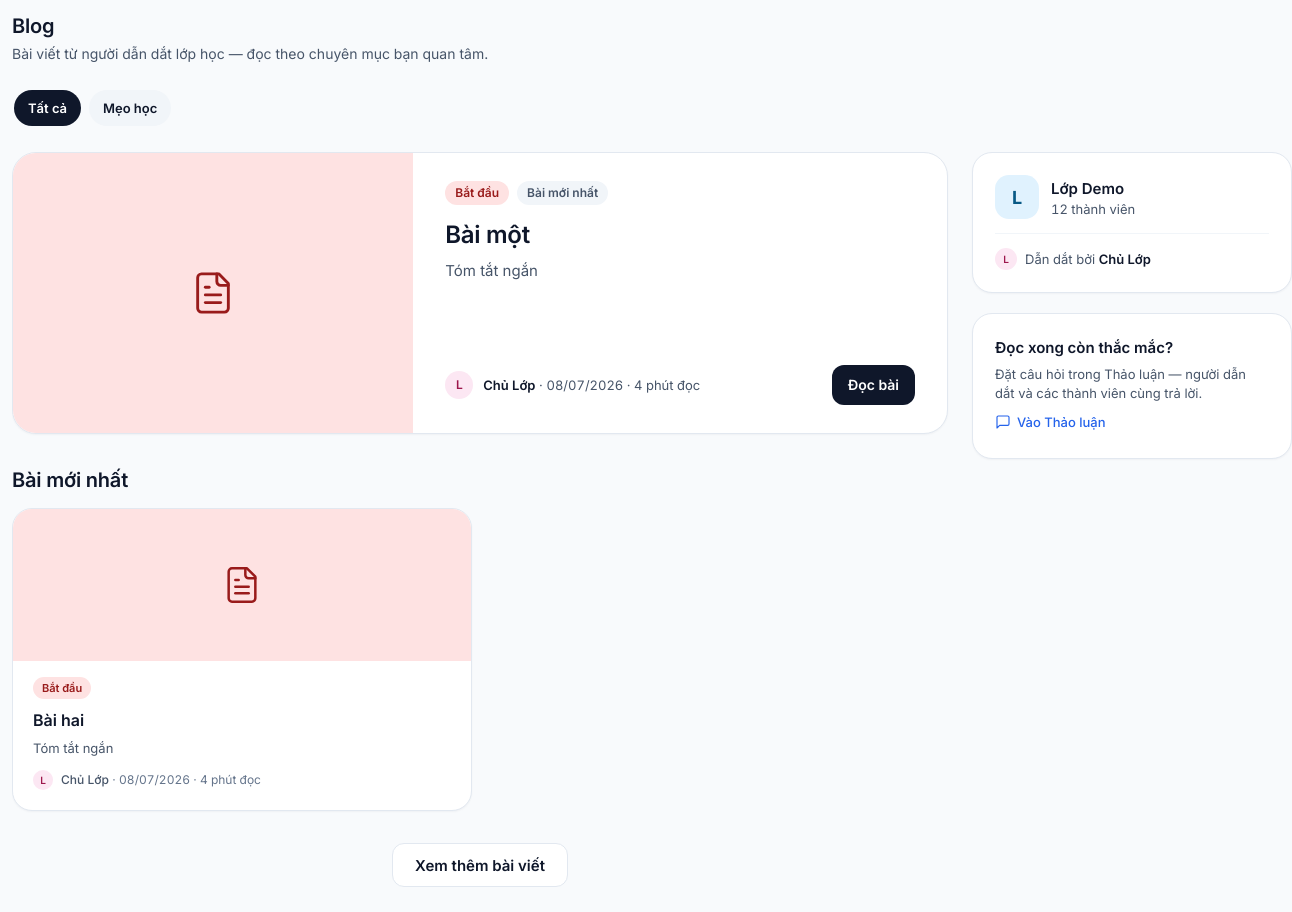
it: BlogTab › filters by category and pages with the cursor ("Xem thêm bài viết")
The image size is (1292, 912).
Expected: the heading "Bài hai" is shown, [33,710,84,730]
Step 1. Click the button "Xem thêm bài viết" → [480, 865], box [392,843,568,887]
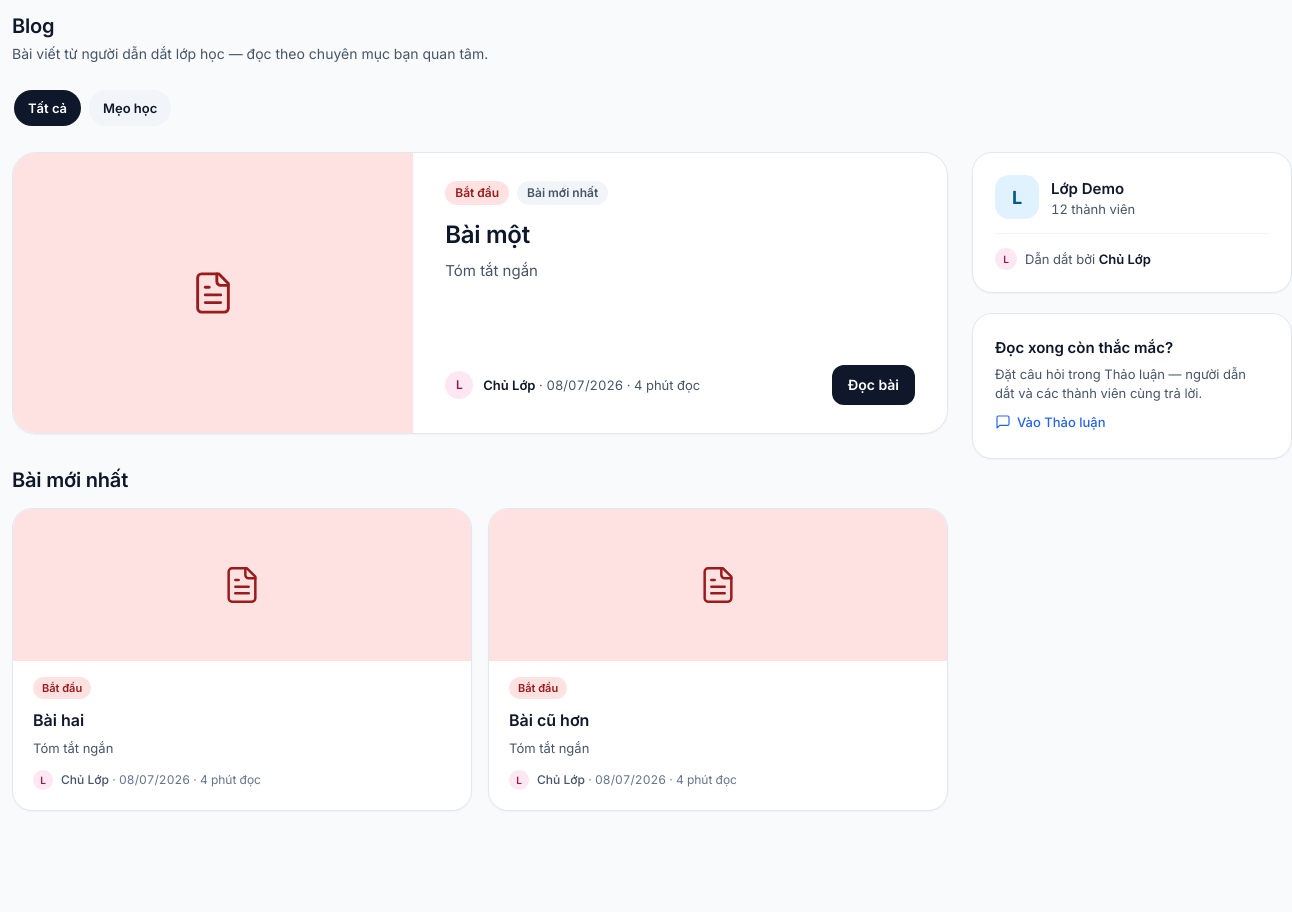
Expected: the heading "Bài hai" is shown, [33,710,84,730]
Now the heading "Bài cũ hơn" is shown, box [509,710,589,730]
Now the button "Xem thêm bài viết" is gone
Step 2. Click the button "Mẹo học" → [130, 108], box [89,90,171,126]
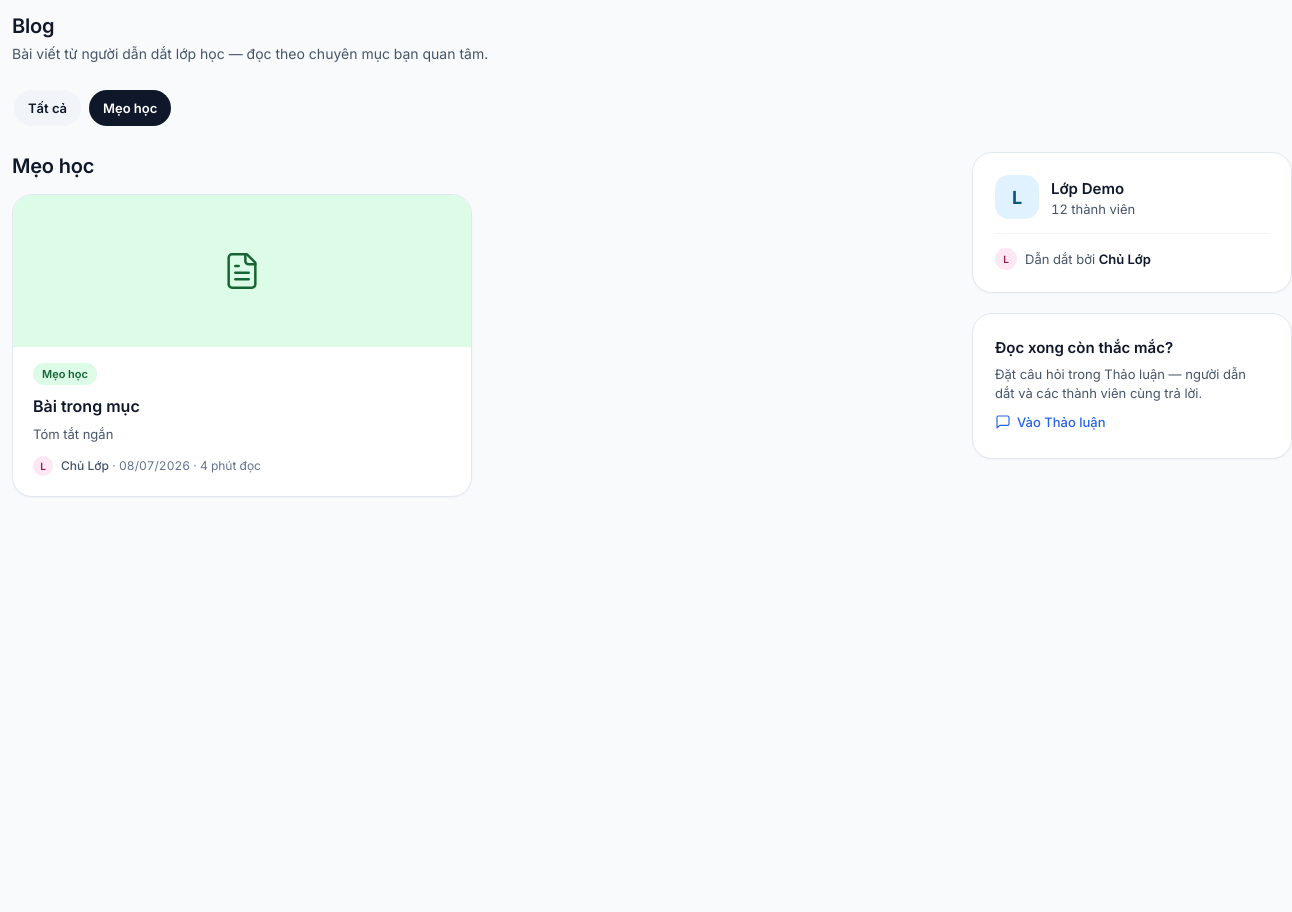
Now the heading "Bài trong mục" is shown, box [33,396,140,416]
Now the link "Bài một" is gone
